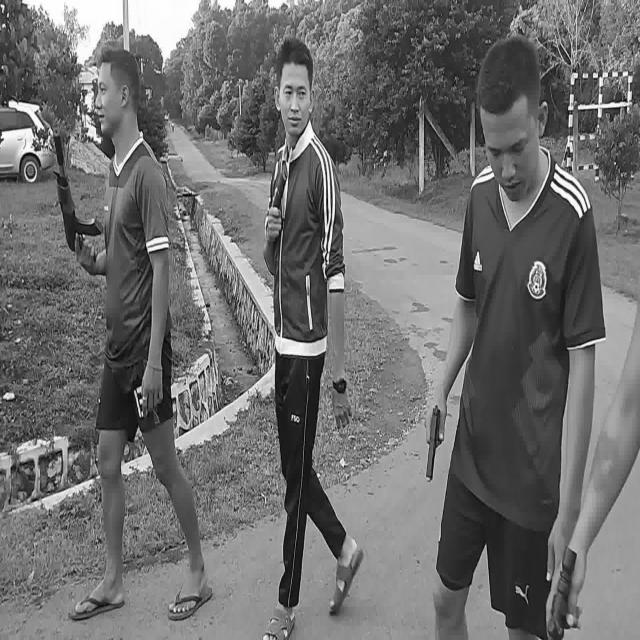gun: (53, 130, 102, 262), (425, 406, 441, 480)
